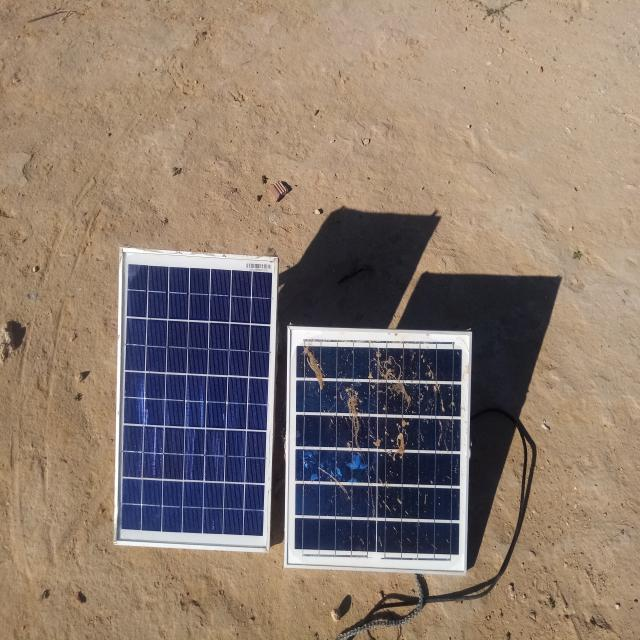faulty: (287, 328, 472, 569)
no faulty: (113, 250, 278, 551)
